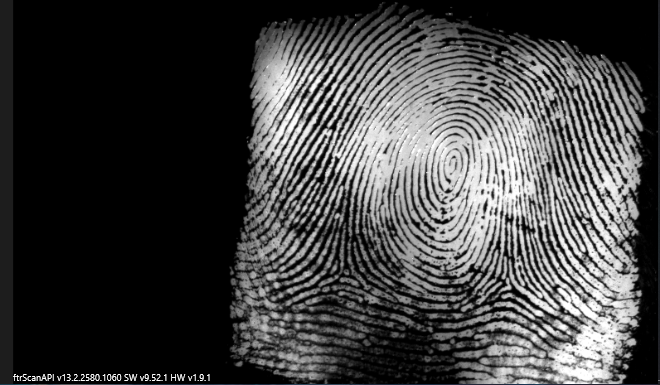deltas: (305, 244, 366, 296), (482, 250, 532, 307)
nucleo: (427, 131, 476, 204)
